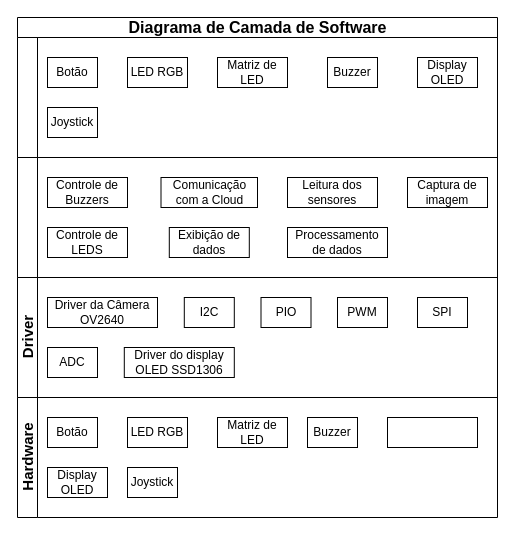
The diagram is 515 pixels wide and 535 high, and some of its shapes have lost their labels. Each missing label, with the box of its shape:
Aplicação: (16, 156, 498, 278)
Interface: (16, 36, 498, 158)
Raspberry Pi Pico W: (386, 416, 478, 448)
